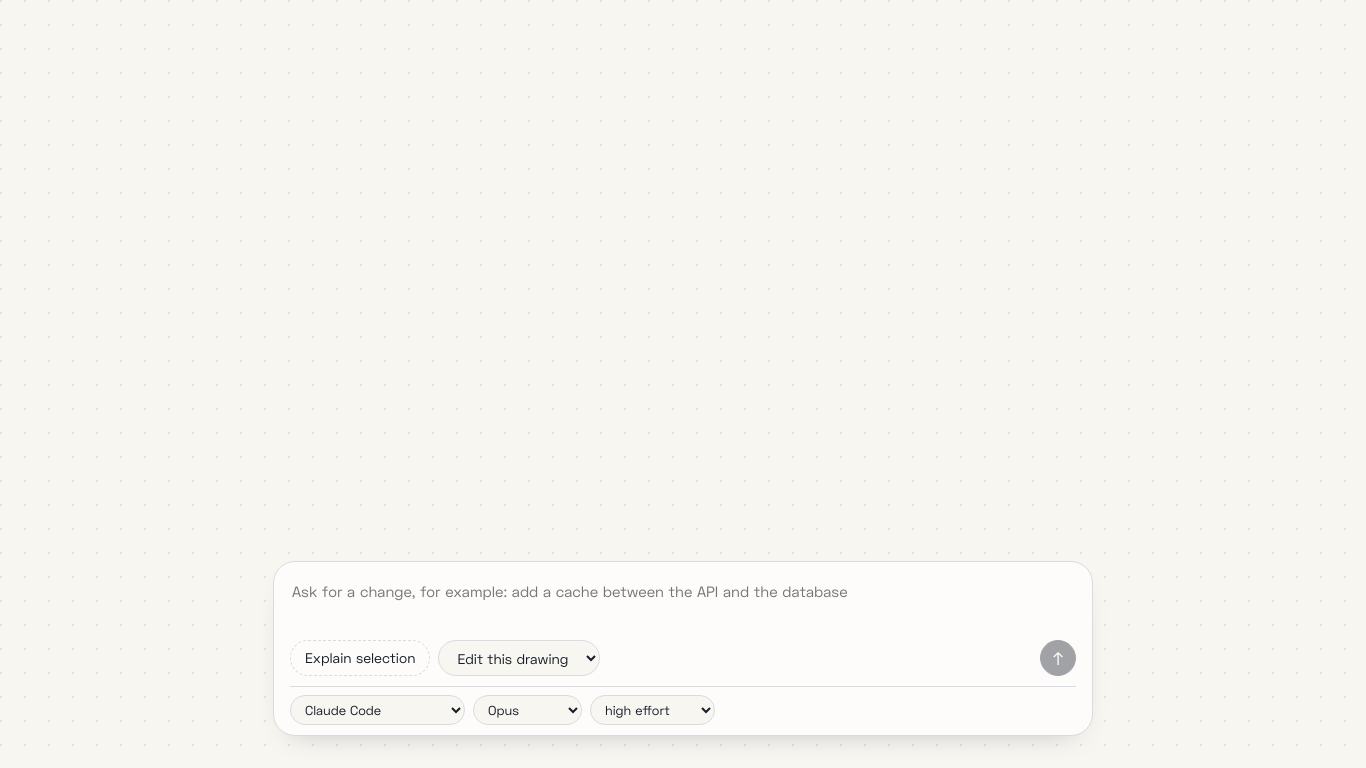
Test: Assistant › clears the conversation on request
Expected: the dropdown named "Model" is shown, [473, 695, 582, 725]
In the text box named "Message the assistant": coordinates (683, 603) [290, 576, 1076, 630], type "Add a cache"
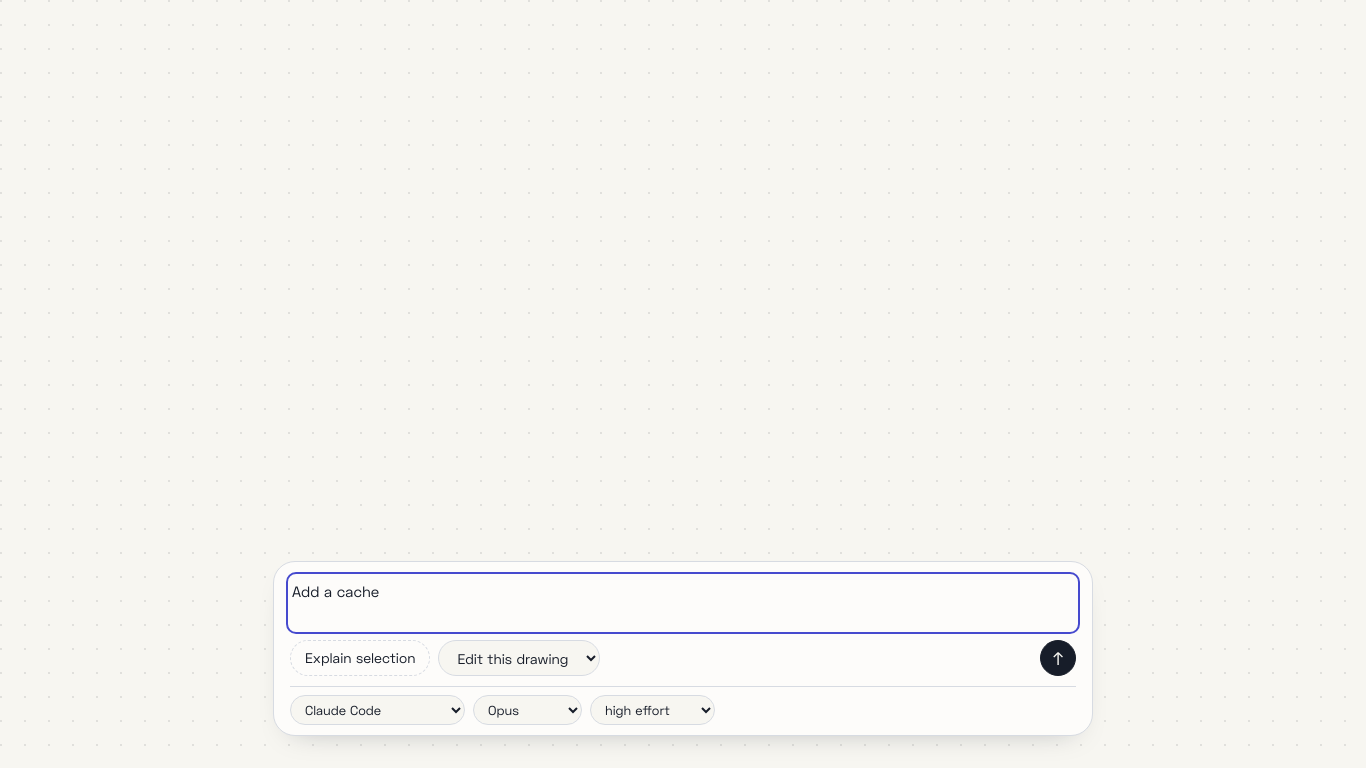
Click the button named "Send": coordinates (1058, 658) [1040, 640, 1076, 676]
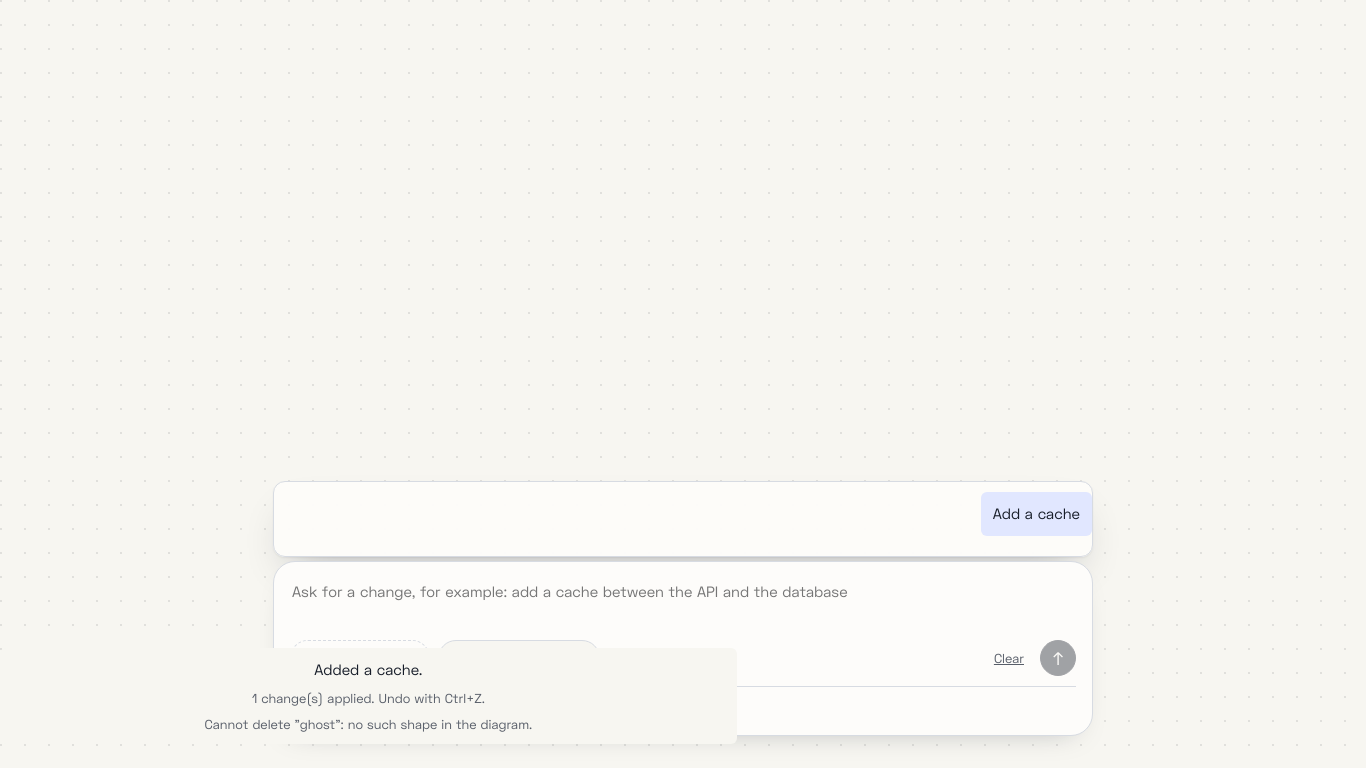
Click the button "Clear": coordinates (1009, 658) [986, 644, 1032, 672]
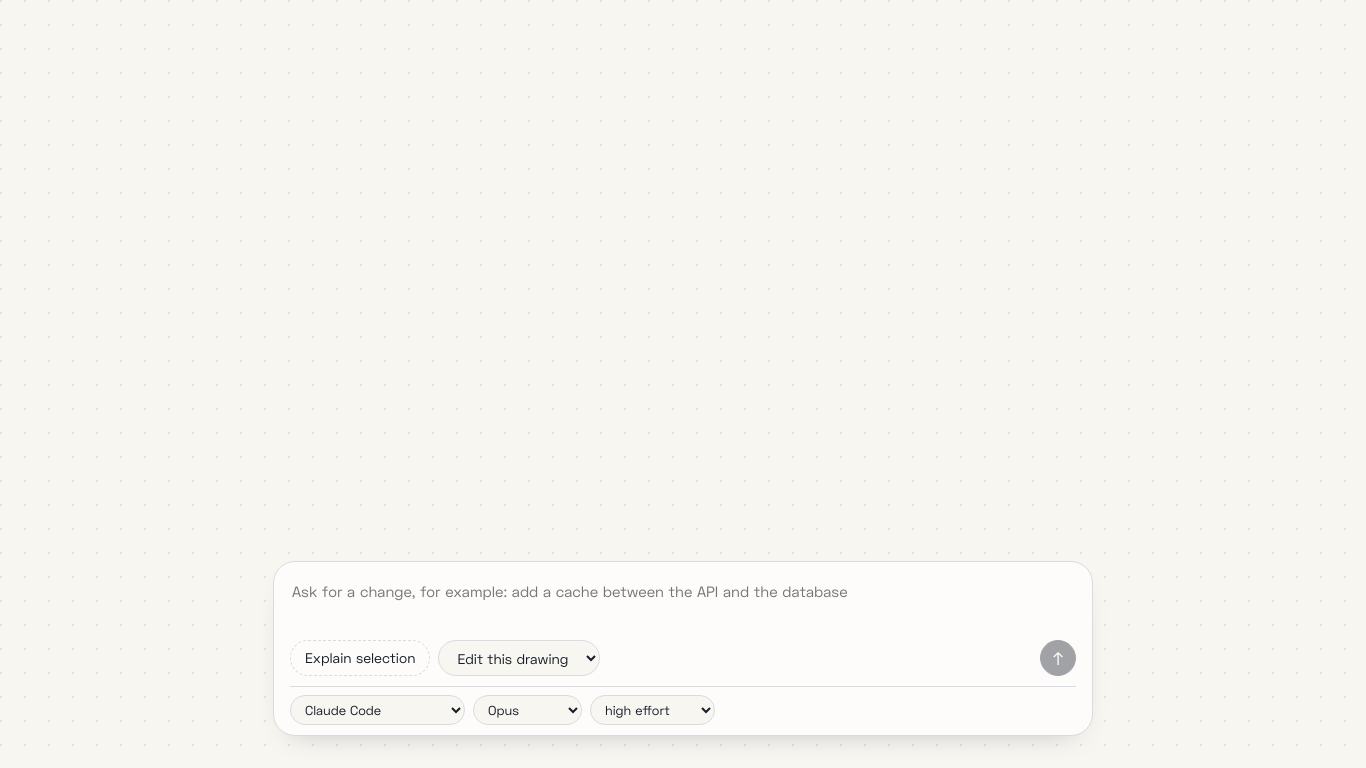
Expected: the text "Added a cache." is not shown
Expected: the button "Clear" is gone
